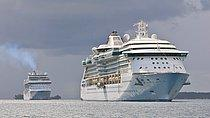Ship: (77, 15, 195, 105), (19, 66, 57, 103)
